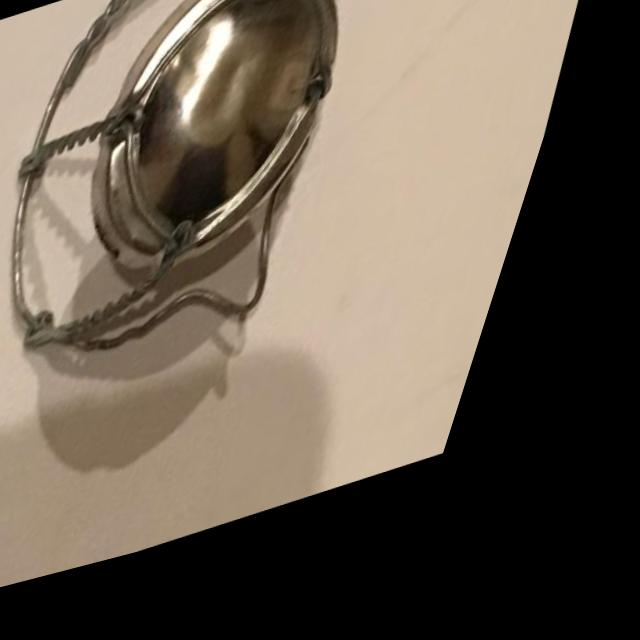metal: (0, 0, 450, 478)
